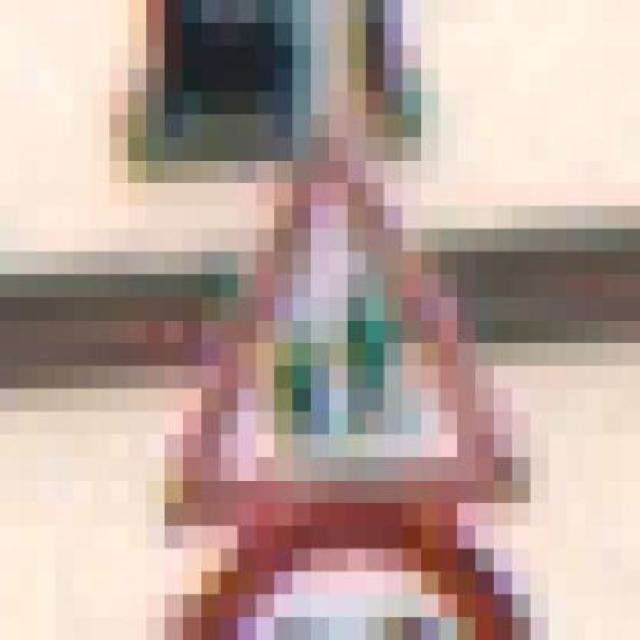Beware of children: (92, 114, 530, 526)
